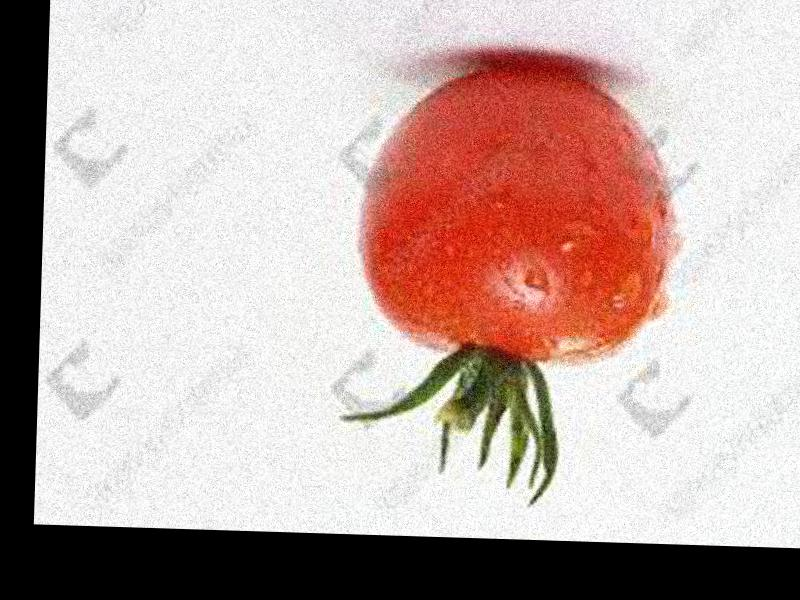Tomato: (355, 58, 671, 364)
